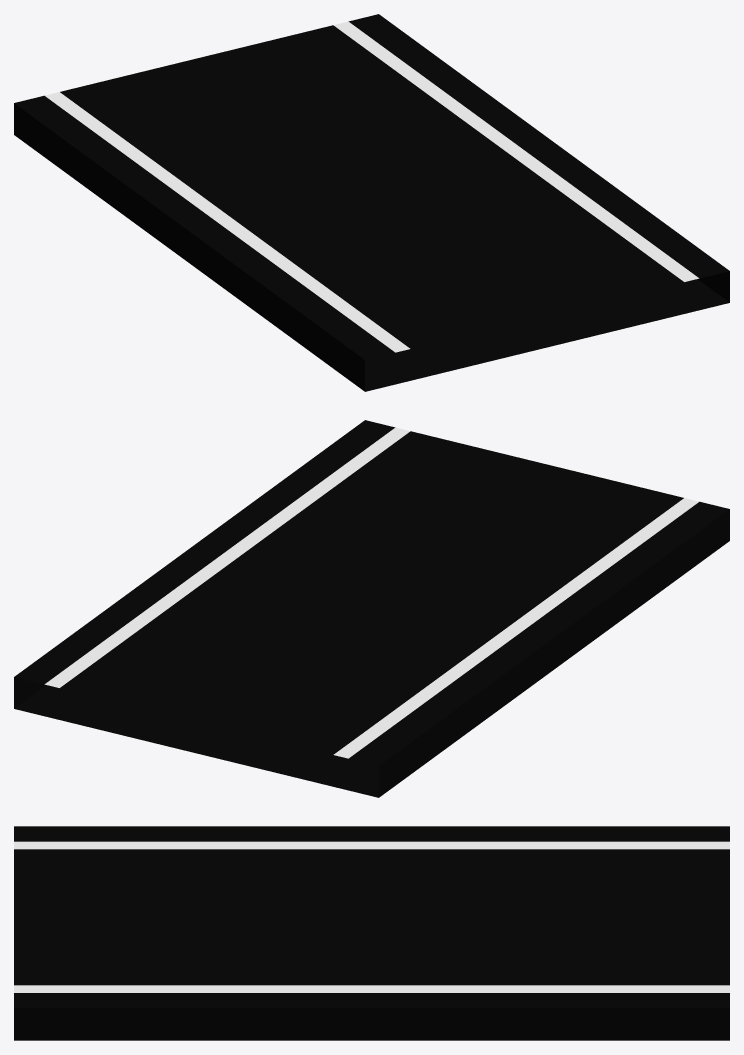
Rendered from Road.fbx.
The picture shows the model from 3 angles, top to bottom: view 1: azimuth 30°, elevation 25°; view 2: azimuth 150°, elevation 25°; view 3: azimuth 270°, elevation 25°; orthographic projection.
Visible parts, largest first — view 1: StraightFIX; view 2: StraightFIX; view 3: StraightFIX.
Part boxes in pixels (<box>): StraightFIX: <box>14,14,729,391</box>; StraightFIX: <box>14,420,729,797</box>; StraightFIX: <box>14,826,729,1040</box>.
Size of the model in its own units: 12 by 1 by 20.
